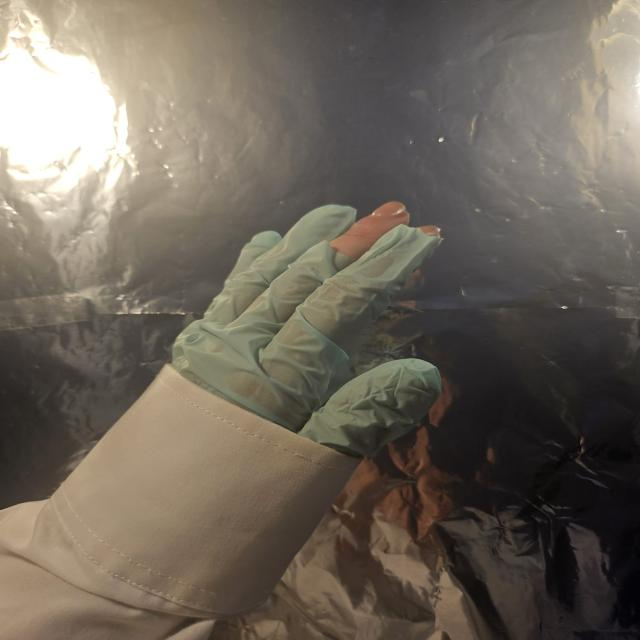gloves_damaged: (165, 198, 447, 461)
